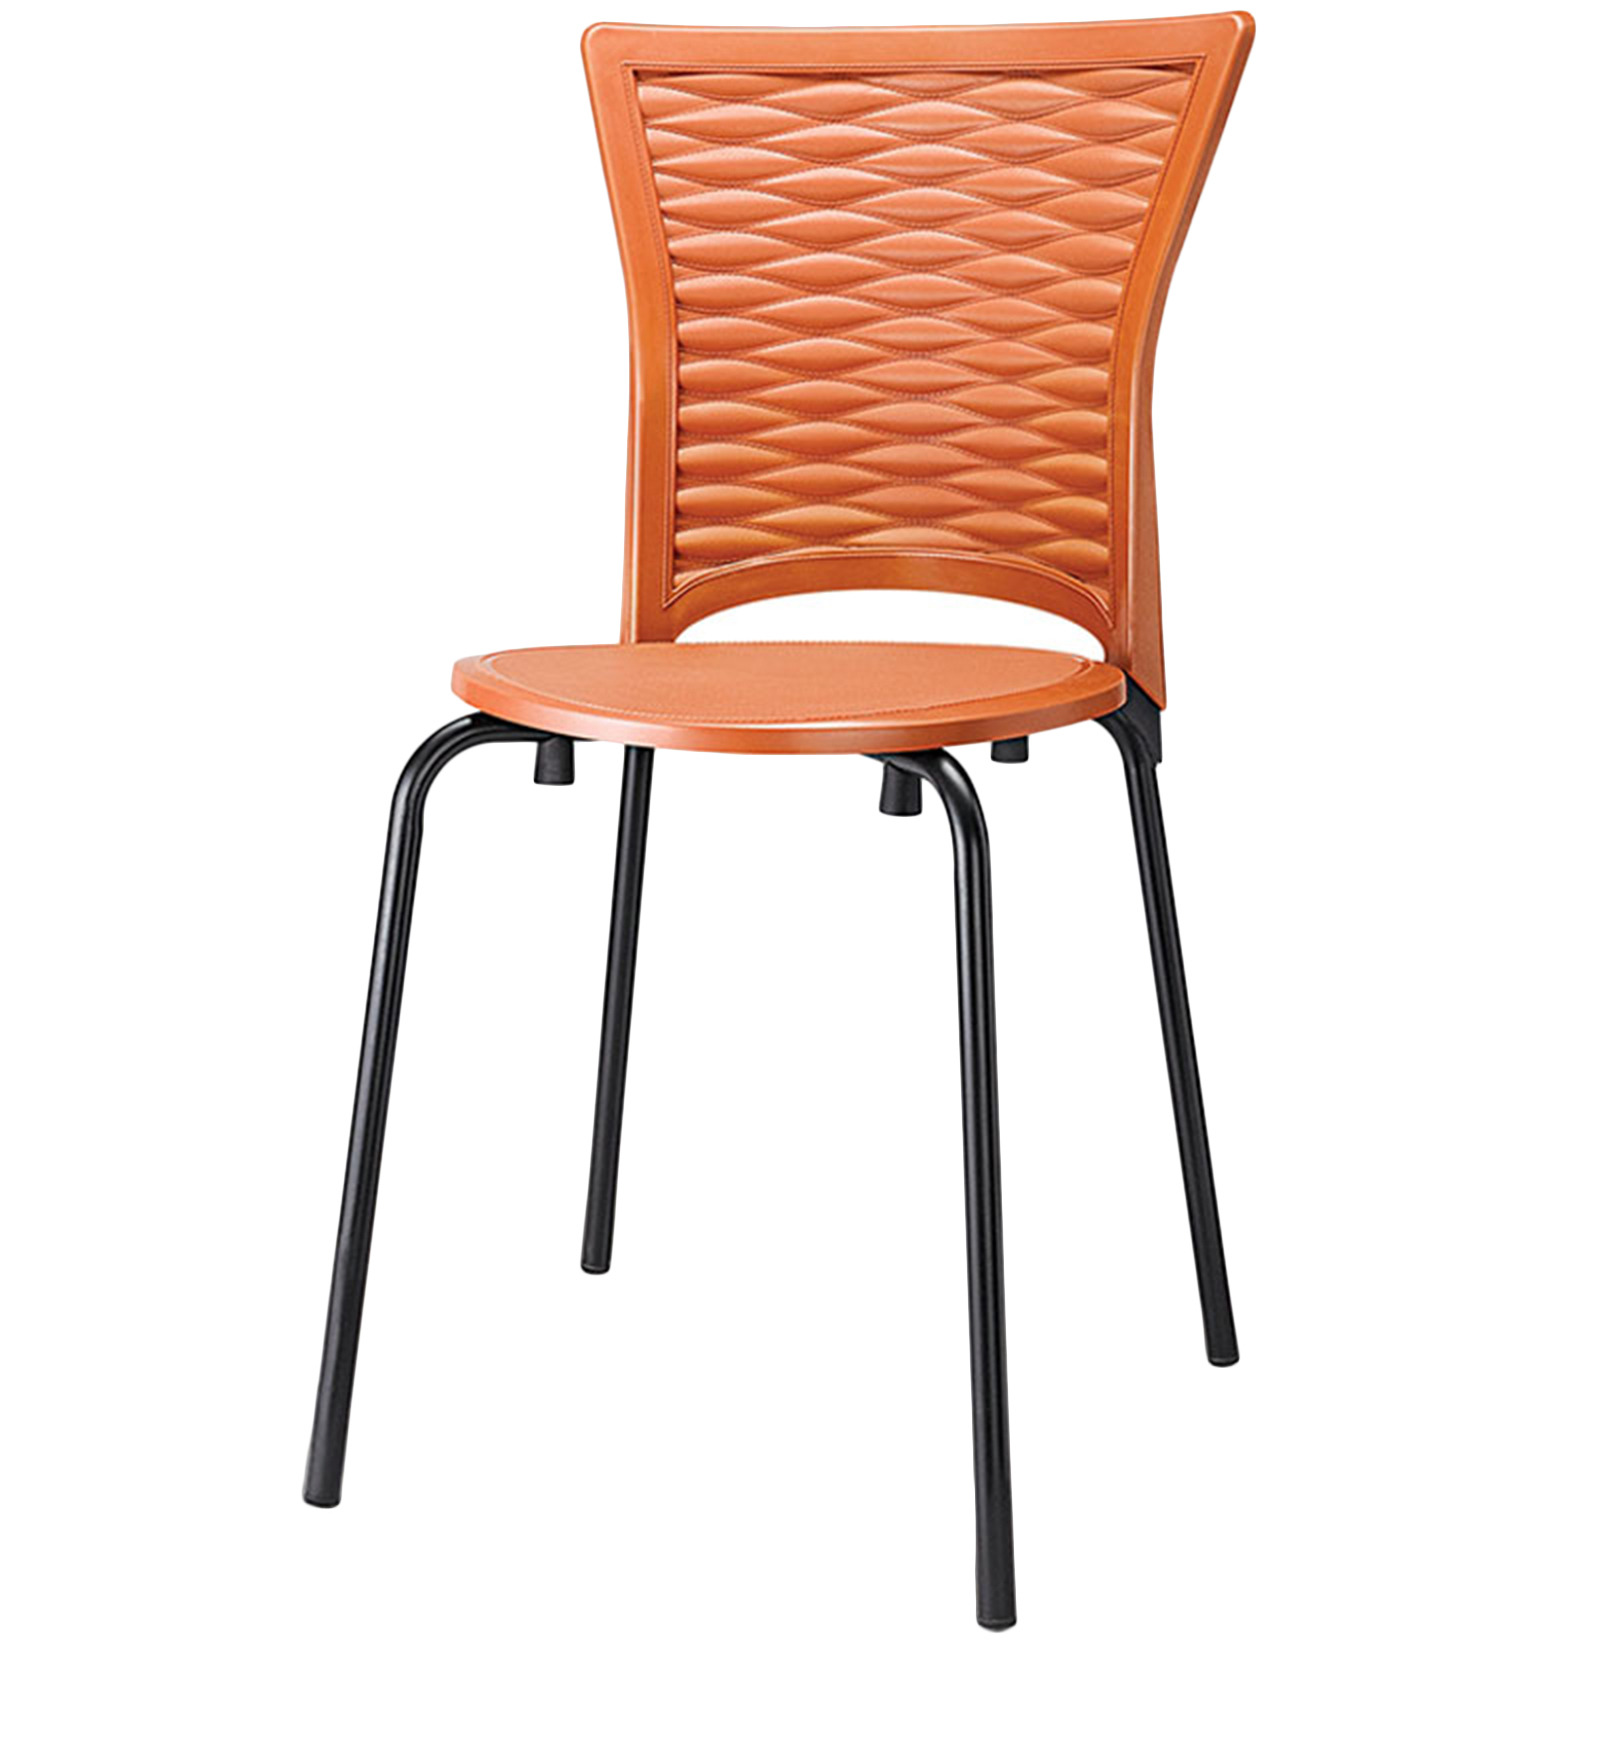Novella Chair in Rust Colour by Nilkamal: (290, 8, 1272, 1633)
